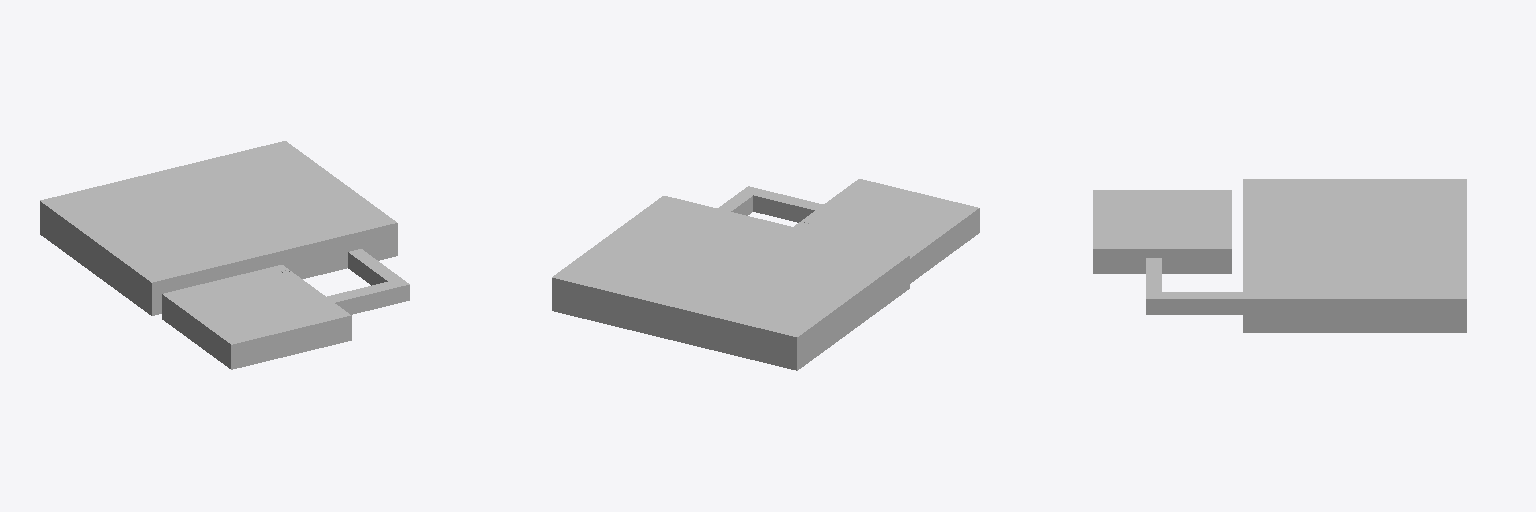
File: emptyroom2.obj
The picture shows the model from 3 angles: view 1: azimuth 30°, elevation 25°; view 2: azimuth 150°, elevation 25°; view 3: azimuth 270°, elevation 25°; orthographic projection.
Parts seen in each view (by area): view 1: Cube; view 2: Cube; view 3: Cube.
Part boxes in pixels (x1,y1,x2,y2): Cube: (40, 141, 409, 369); Cube: (552, 179, 979, 370); Cube: (1093, 179, 1466, 332).
Size of the model in its own units: 40.86 by 5.38 by 53.82.